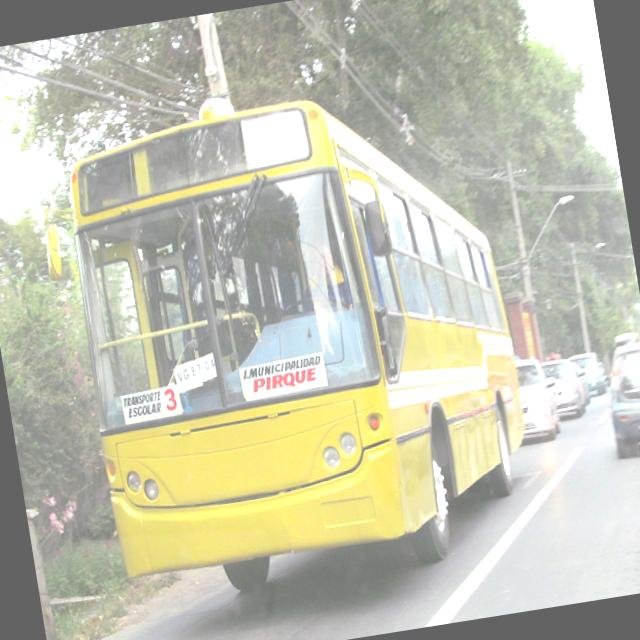Vehicle: (24, 58, 544, 621), (600, 339, 640, 459), (512, 355, 565, 445), (541, 357, 589, 422), (569, 350, 611, 398), (571, 358, 600, 407)
